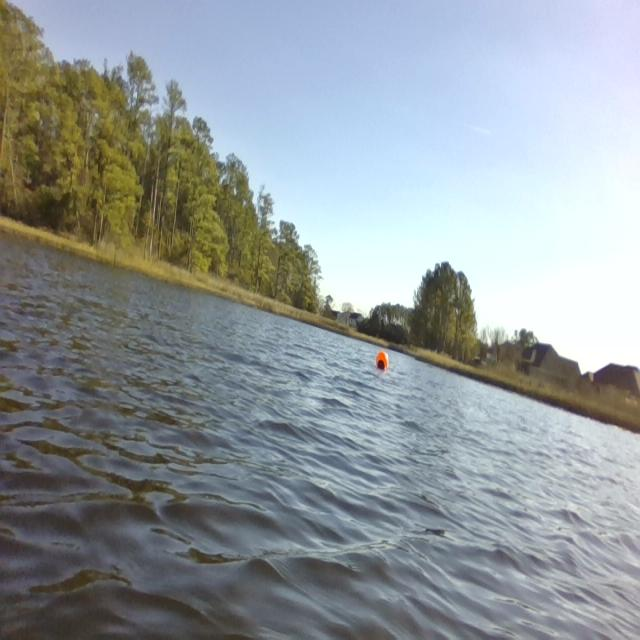Buoy: (373, 347, 393, 376)
